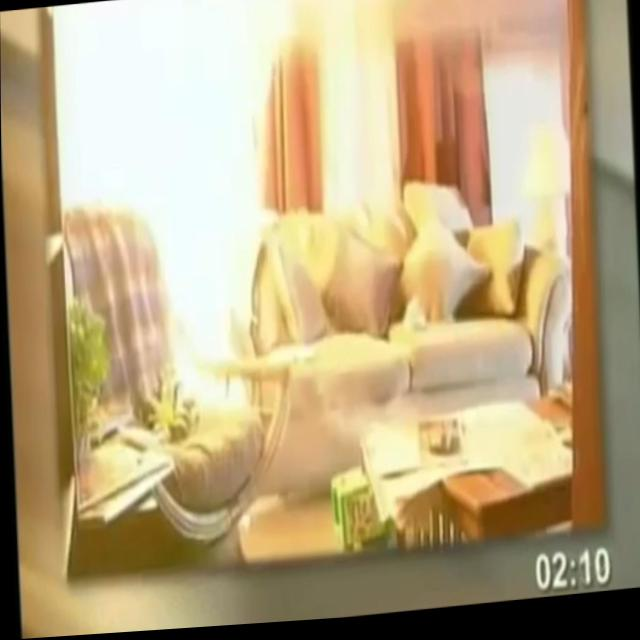fire: (64, 0, 304, 432)
